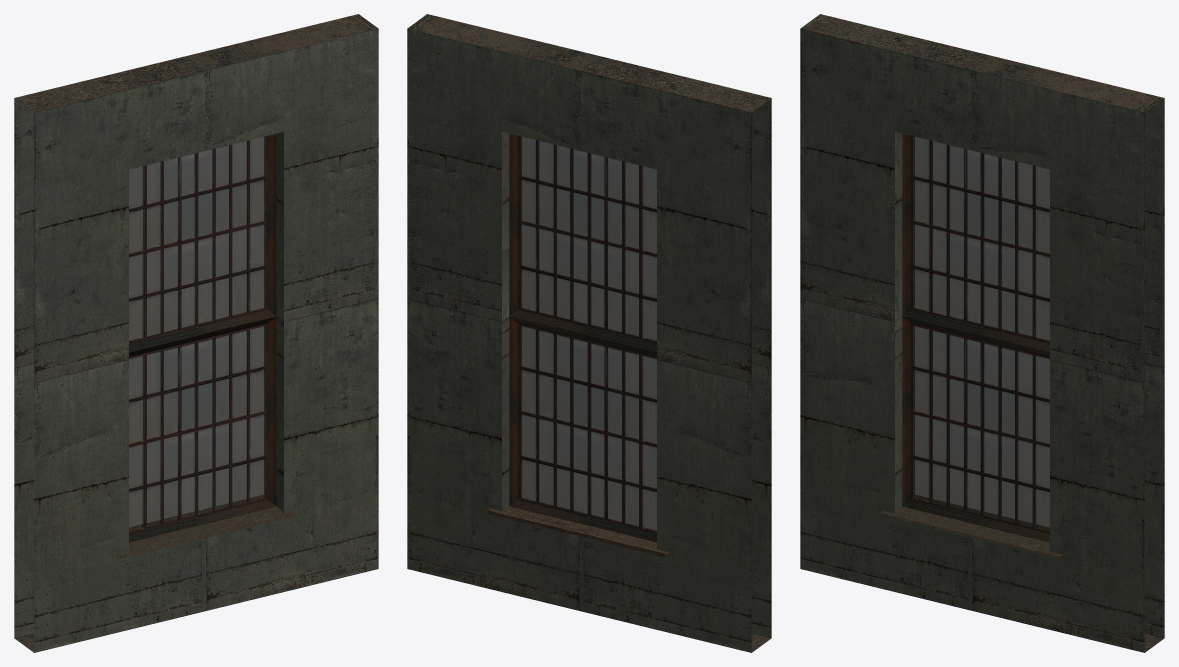
The model's file is wall_rg_1_m_2.obj.
The picture shows the model from 3 angles, left to right: view 1: azimuth 30°, elevation 25°; view 2: azimuth 150°, elevation 25°; view 3: azimuth 330°, elevation 25°; orthographic projection.
Parts seen in each view (by area): view 1: wall_rg_1_m_2; view 2: wall_rg_1_m_2; view 3: wall_rg_1_m_2.
Part boxes in pixels (x1,y1,x2,y2): wall_rg_1_m_2: (14,14,378,652); wall_rg_1_m_2: (407,14,771,652); wall_rg_1_m_2: (800,14,1164,652).
Bounding box in the file's own units: 4 × 6 × 0.505.
